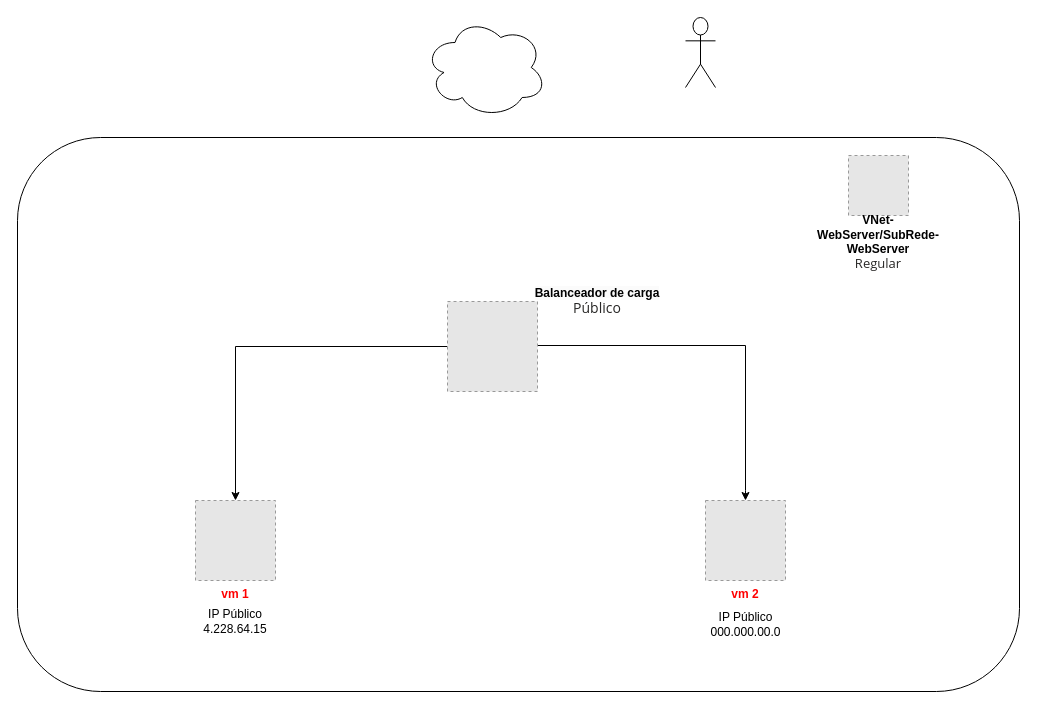
The diagram is 1037 pixels wide and 709 high, and some of its shapes have lost their labels. Grey dashed boxes stand in for pictures. Here are the shapes that lost their labels. From the top down, the box of each, then its label:
(424, 16, 546, 118): Internet
(684, 16, 716, 88): Usuário
